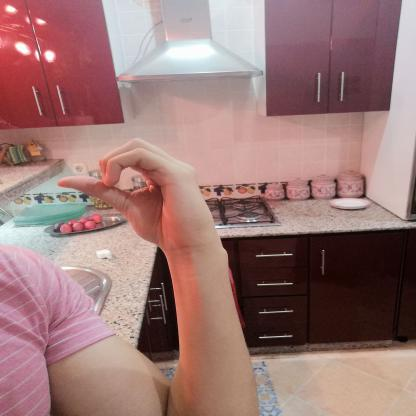WAW: (42, 126, 226, 256)
